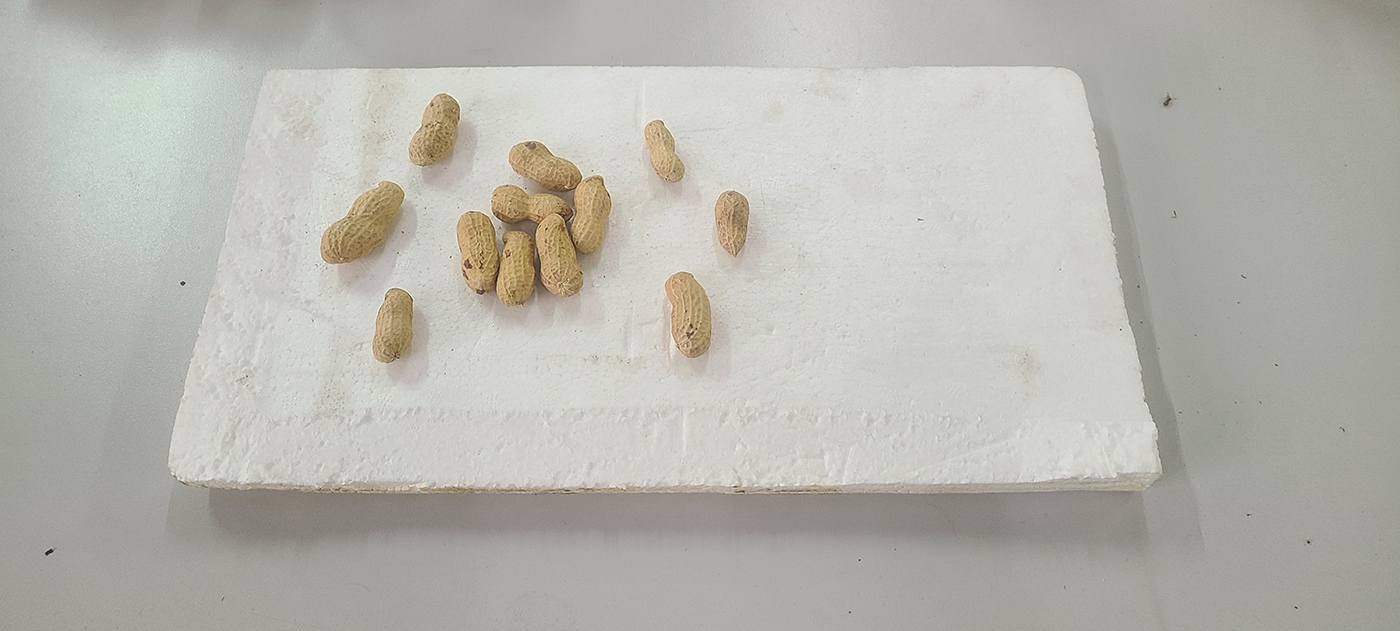h: (318, 181, 405, 264), (664, 270, 712, 358), (535, 214, 583, 297), (409, 93, 460, 167), (510, 141, 582, 193), (456, 211, 500, 294), (569, 175, 612, 255), (372, 287, 415, 362), (492, 184, 573, 223), (496, 229, 536, 306), (645, 119, 685, 185), (714, 188, 749, 255)
